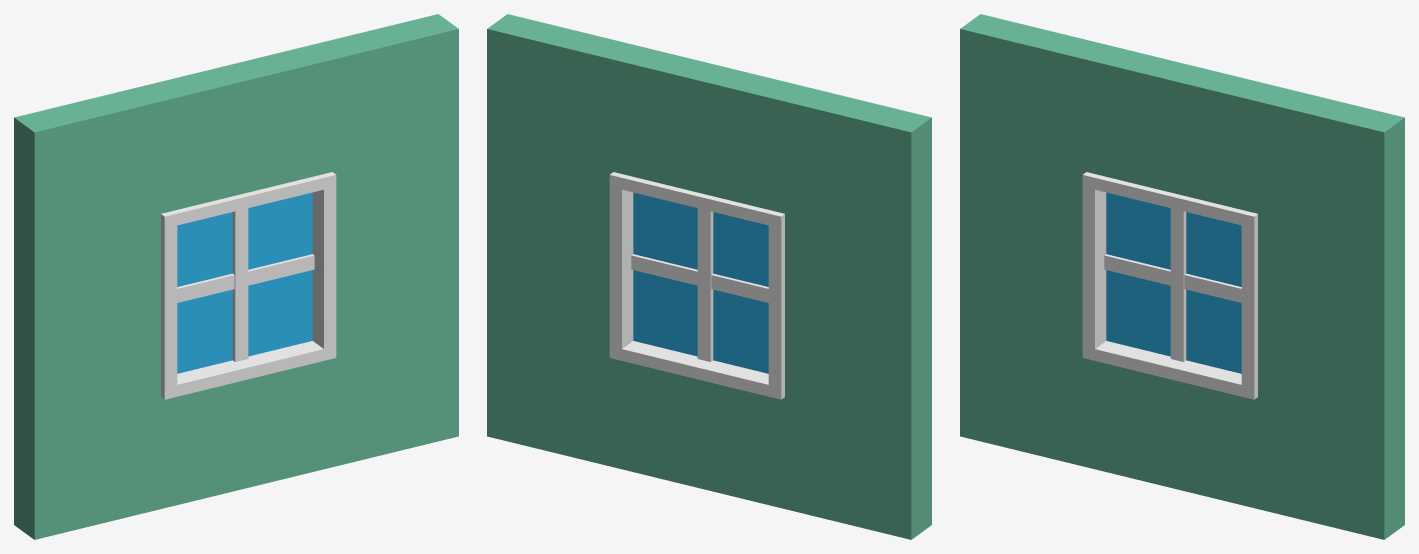
Rendered from Simple_wallA.fbx.
3 views of the same model, side by side, from view 1: azimuth 30°, elevation 25°; view 2: azimuth 150°, elevation 25°; view 3: azimuth 330°, elevation 25° (orthographic).
Visible parts, largest first — view 1: transform1; view 2: transform1; view 3: transform1.
Boxes of the visible parts, x1,y1,x2,y2 form: transform1: [14, 14, 458, 539]; transform1: [487, 14, 931, 539]; transform1: [960, 14, 1404, 539].
Bounding box in the file's own units: 109 × 100 × 12.55.
